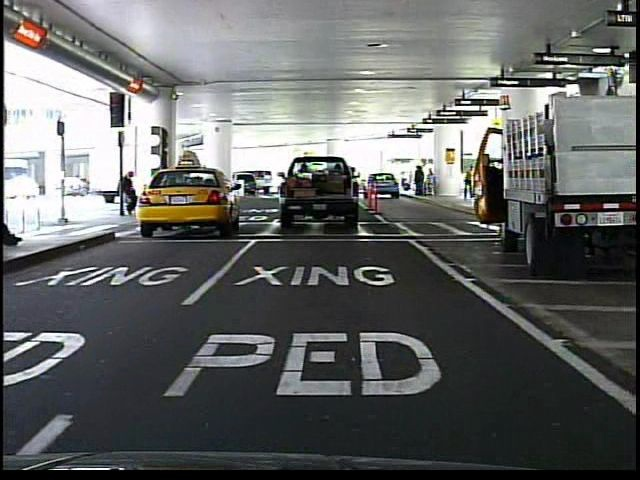person: (120, 169, 140, 219)
